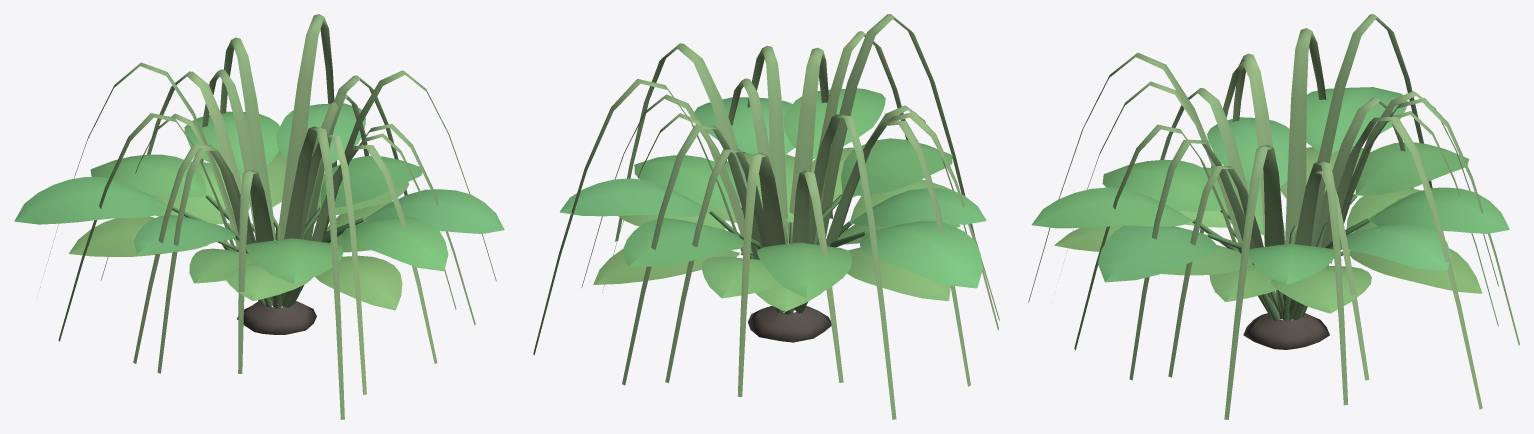
Rendered from ground-cover-library-original-v3.glb.
The picture shows the model from 3 angles, left to right: view 1: azimuth 30°, elevation 25°; view 2: azimuth 150°, elevation 25°; view 3: azimuth 270°, elevation 25°; orthographic projection. The views are drawn at different scales.
Visible parts, largest first — view 1: ground-cover-attached-leaves (×3), ground-cover-load-bearing-structure; view 2: ground-cover-attached-leaves (×3), ground-cover-load-bearing-structure; view 3: ground-cover-attached-leaves (×3), ground-cover-load-bearing-structure.
Part boxes in pixels (box(x1,y1,x2,y2)): ground-cover-attached-leaves (×3): box(14, 14, 504, 419); ground-cover-load-bearing-structure: box(172, 195, 363, 334); ground-cover-attached-leaves (×3): box(533, 14, 999, 419); ground-cover-load-bearing-structure: box(708, 194, 864, 342); ground-cover-attached-leaves (×3): box(1028, 14, 1519, 419); ground-cover-load-bearing-structure: box(1192, 194, 1369, 349).
Bounding box in the file's own units: 1.12 × 0.6634 × 1.08.
